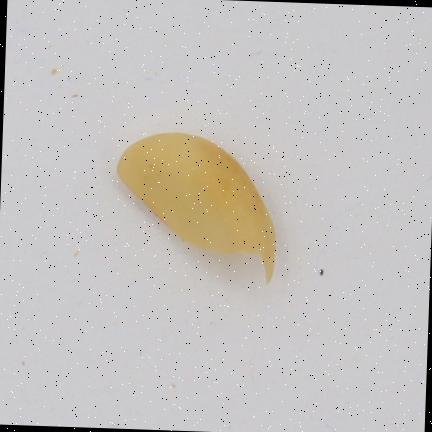parchment: (117, 132, 275, 282)
